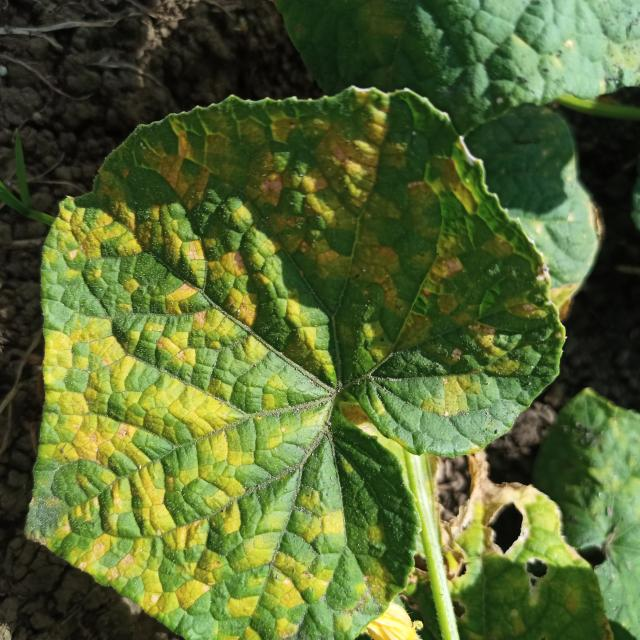disease_cucumber: (44, 98, 535, 632)
